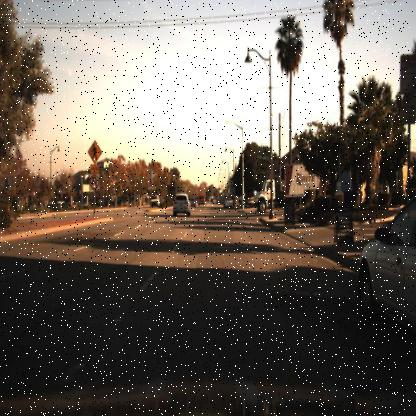car: (356, 202, 415, 348), (167, 187, 195, 220), (221, 193, 237, 211), (148, 190, 162, 209), (149, 193, 162, 209), (197, 192, 207, 208)
truck: (248, 153, 336, 219), (252, 159, 335, 217)
